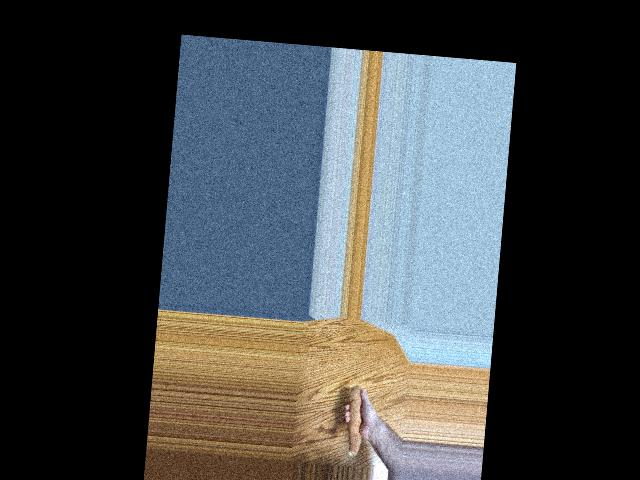sweet_potato: (341, 379, 370, 458)
